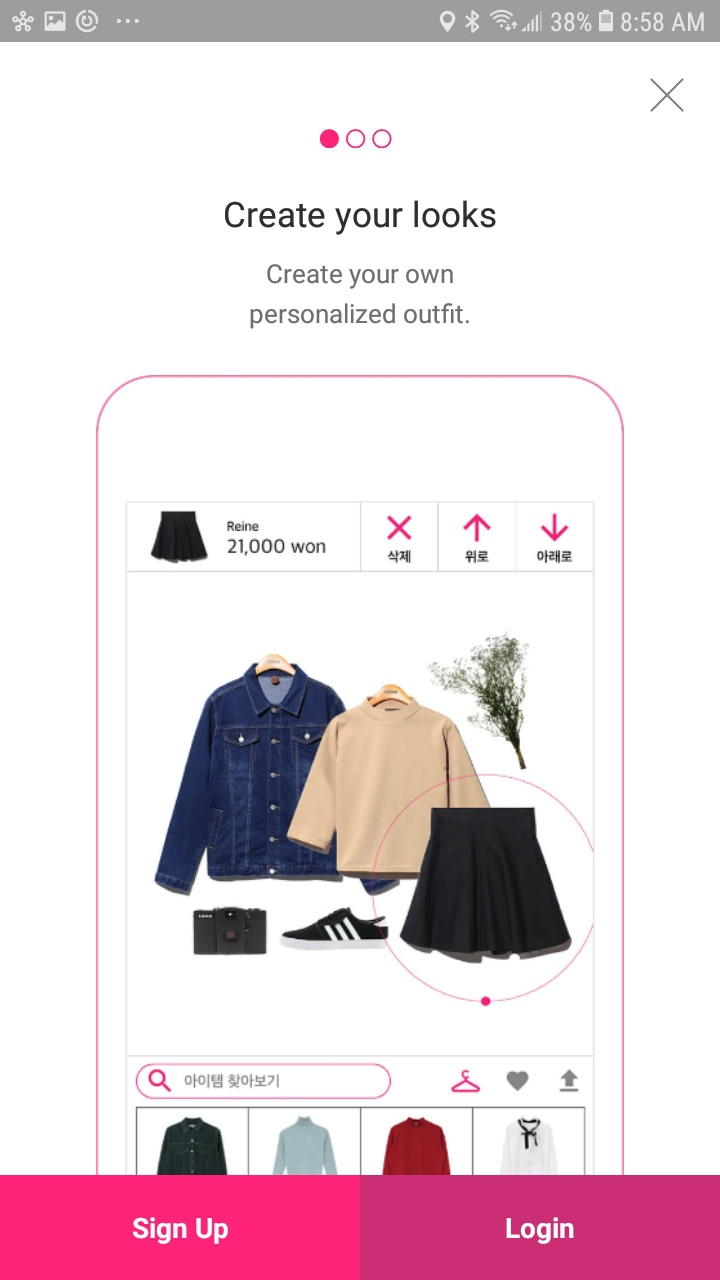Icon: (650, 78, 685, 113)
Image: (96, 375, 625, 1175)
PageIndicator: (320, 129, 393, 150)
Text: (250, 264, 470, 330), (225, 200, 497, 237)
TextButton: (1, 1175, 361, 1280), (361, 1175, 720, 1280)
UpperTaskBar: (1, 1, 720, 43)
